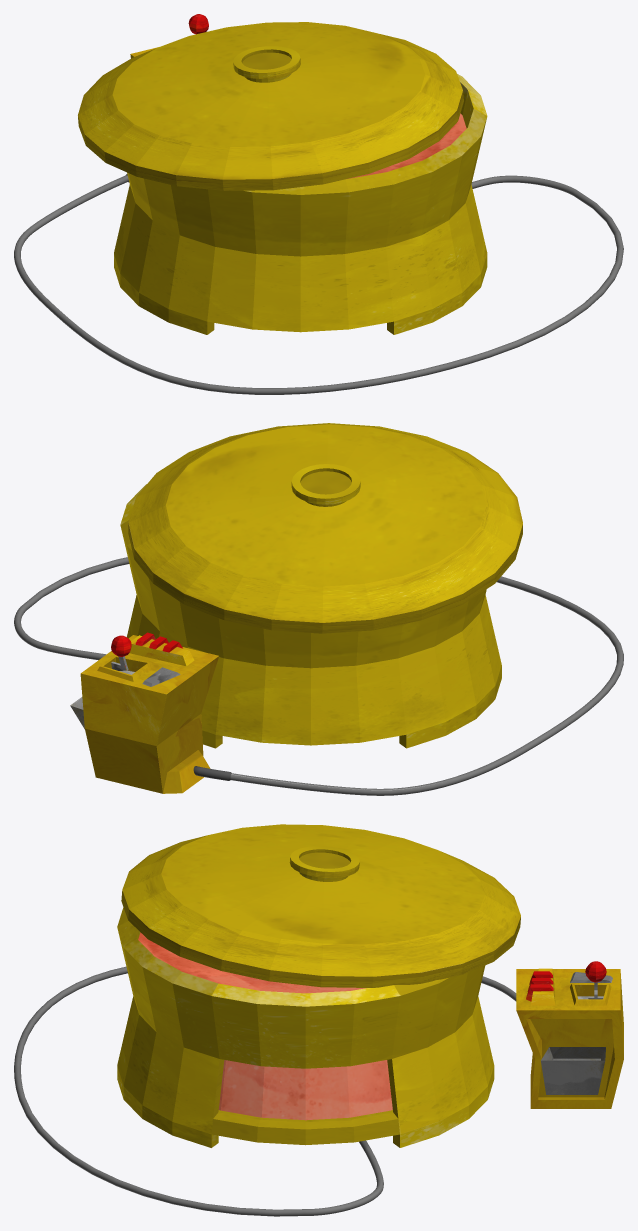
The model's file is Mezcladora.glb.
3 renders of one model, top to bottom at view 1: azimuth 30°, elevation 25°; view 2: azimuth 150°, elevation 25°; view 3: azimuth 270°, elevation 25°, orthographic. The views are drawn at different scales.
Visible parts, largest first — view 1: Mezcladora; view 2: Mezcladora; view 3: Mezcladora.
Boxes of the visible parts, x1,y1,x2,y2 form: Mezcladora: (14,14,623,394); Mezcladora: (14,423,623,795); Mezcladora: (14,824,623,1216).
Bounding box in the file's own units: 6.99 × 2.68 × 7.02.
6 materials, 6 textured.
